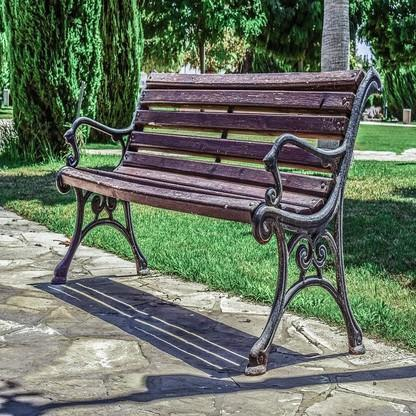obstacle: (51, 59, 387, 376)
